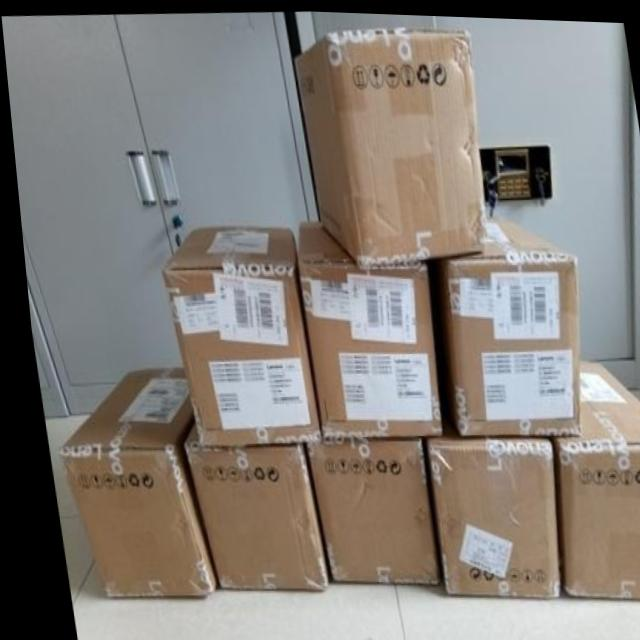box: (292, 21, 483, 265), (47, 367, 207, 598), (156, 223, 313, 447), (293, 220, 434, 437), (436, 210, 573, 433), (174, 423, 317, 588), (542, 357, 640, 595), (417, 432, 549, 594), (299, 436, 429, 580)
